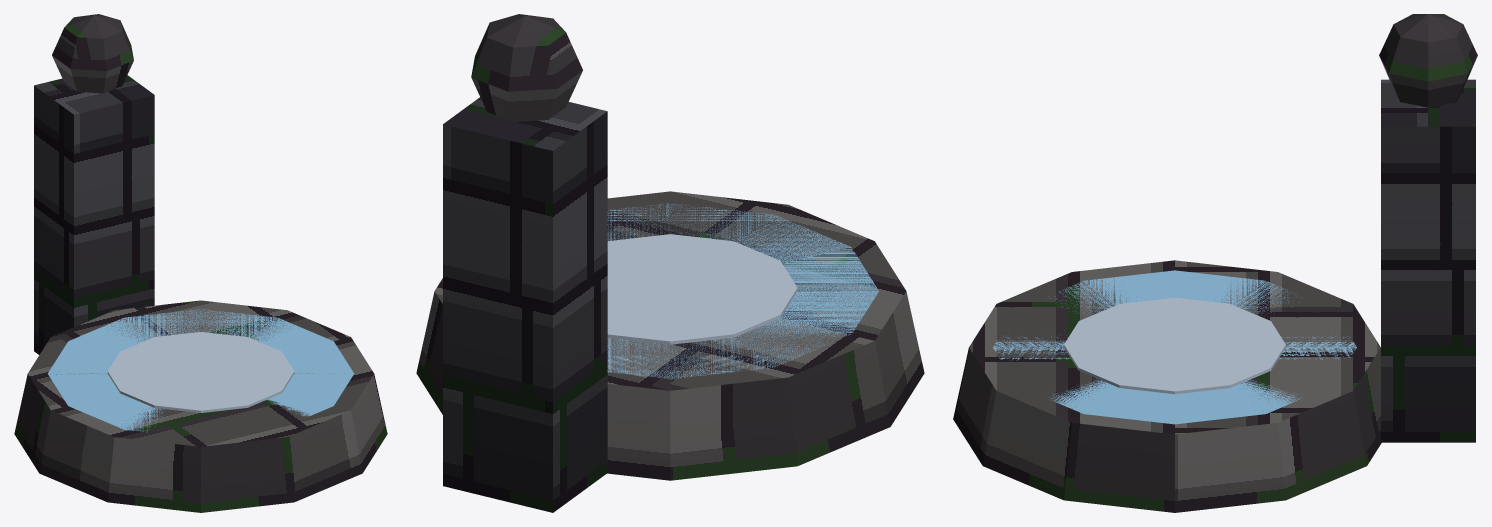
The model's file is bubbly_spring.glb.
The picture shows the model from 3 angles, left to right: view 1: azimuth 30°, elevation 25°; view 2: azimuth 150°, elevation 25°; view 3: azimuth 270°, elevation 25°; orthographic projection. The views are drawn at different scales.
Visible parts, largest first — view 1: bubbly_spring; view 2: bubbly_spring; view 3: bubbly_spring.
Part boxes in pixels (x1,y1,x2,y2): bubbly_spring: [14, 14, 387, 512]; bubbly_spring: [416, 14, 924, 512]; bubbly_spring: [953, 14, 1477, 512].
Bounding box in the file's own units: 2.8 × 2.82 × 3.31.
2 materials, 1 textured.
